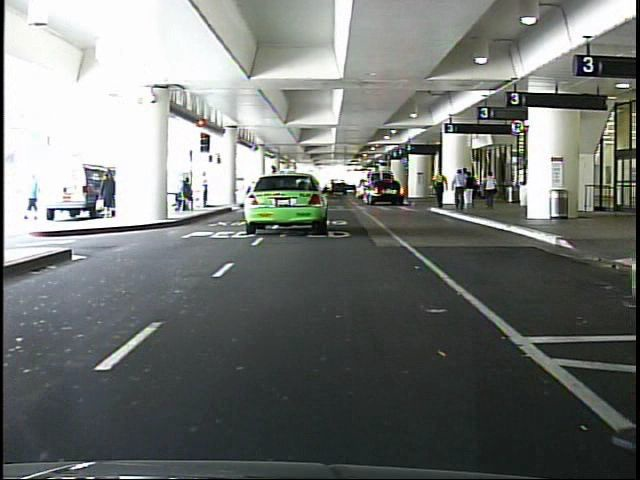person: (25, 171, 48, 232), (478, 169, 501, 218), (102, 168, 124, 218), (427, 167, 449, 215), (451, 165, 470, 215), (200, 170, 214, 213), (464, 171, 478, 213)
